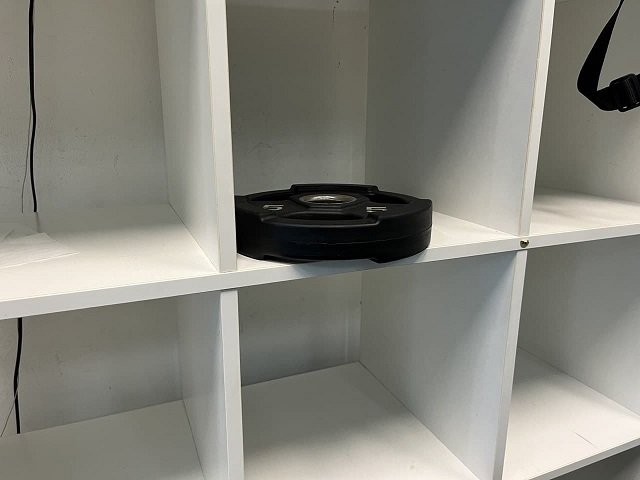weights: (233, 183, 432, 263)
